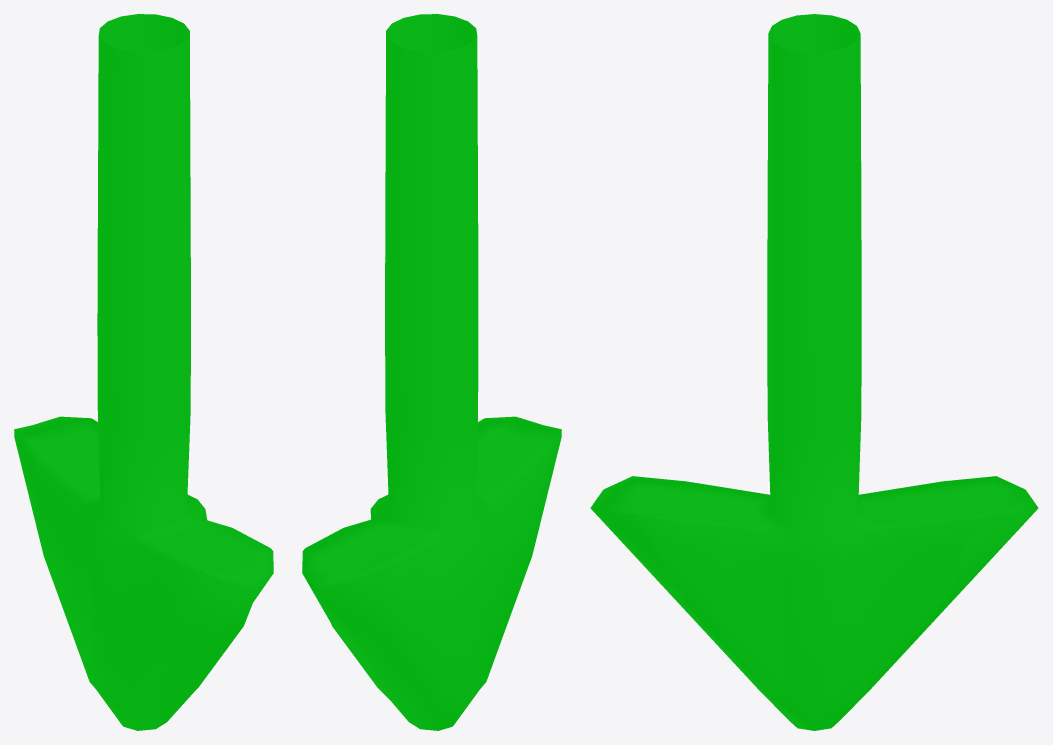
File: 3dCursorArrow.glb
3 renders of one model, left to right at view 1: azimuth 30°, elevation 25°; view 2: azimuth 150°, elevation 25°; view 3: azimuth 270°, elevation 25°, orthographic.
Visible parts, largest first — view 1: straight.001; view 2: straight.001; view 3: straight.001.
Part boxes in pixels (box(x1,y1,x2,y2)): straight.001: box(14, 14, 273, 730); straight.001: box(302, 14, 561, 730); straight.001: box(590, 14, 1038, 730).
Size of the model in its own units: 0.1064 by 0.6495 by 0.3827.
